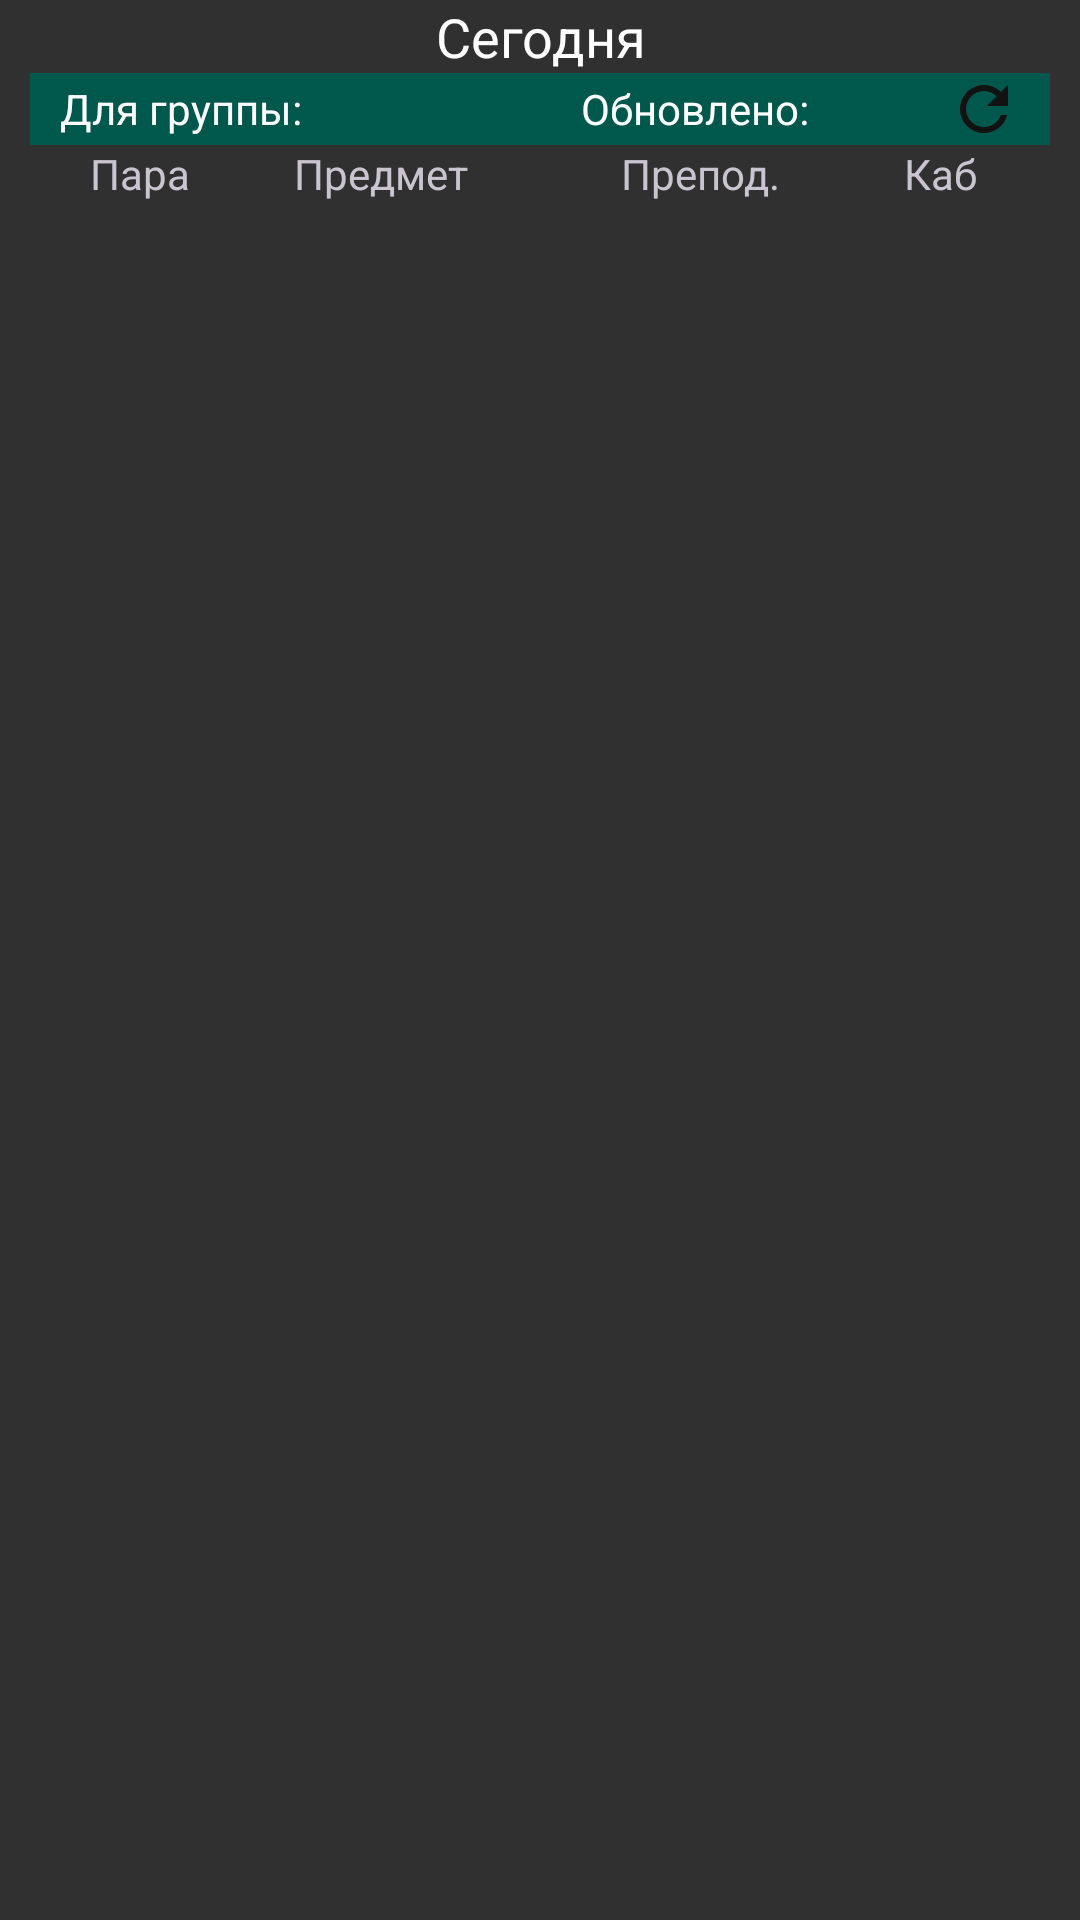

Named icons in this screenshot (1080w x 1920h) and their centers, [x,y]:
Обновить расписание: [984,109]
